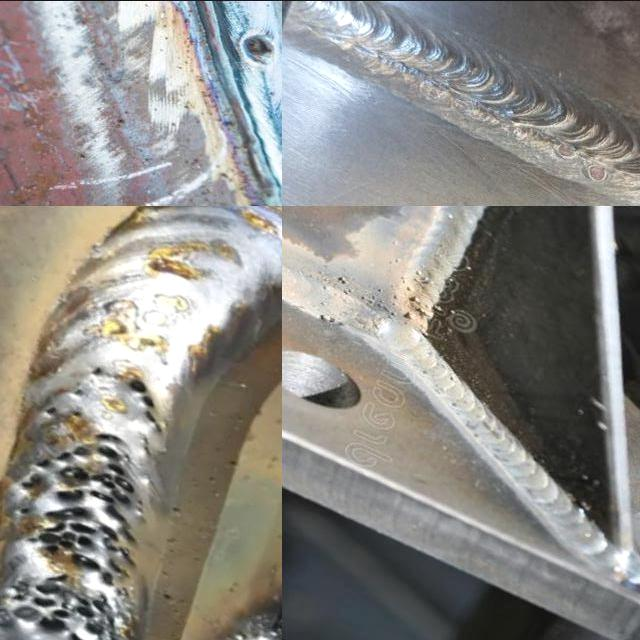defect: (0, 429, 149, 640), (359, 252, 433, 323), (123, 373, 169, 437), (237, 27, 277, 66), (311, 307, 352, 328), (584, 161, 613, 186), (553, 136, 582, 160), (455, 98, 480, 118), (424, 80, 448, 100), (336, 272, 355, 297), (88, 363, 111, 380), (69, 385, 88, 397), (43, 404, 59, 415), (72, 407, 84, 418)
